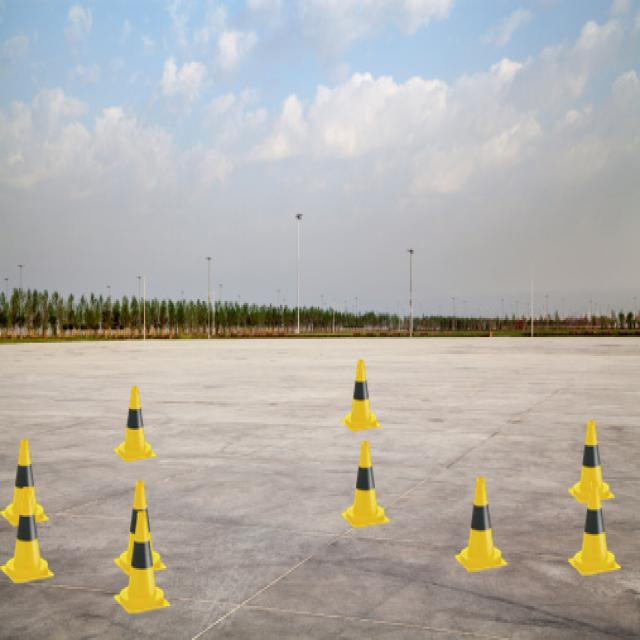yellow_cone: (114, 512, 170, 614), (0, 486, 54, 583), (454, 477, 508, 572), (568, 481, 621, 576), (114, 481, 166, 576), (0, 439, 49, 526), (341, 441, 390, 528), (568, 420, 615, 504), (114, 386, 156, 462), (341, 359, 381, 432)
